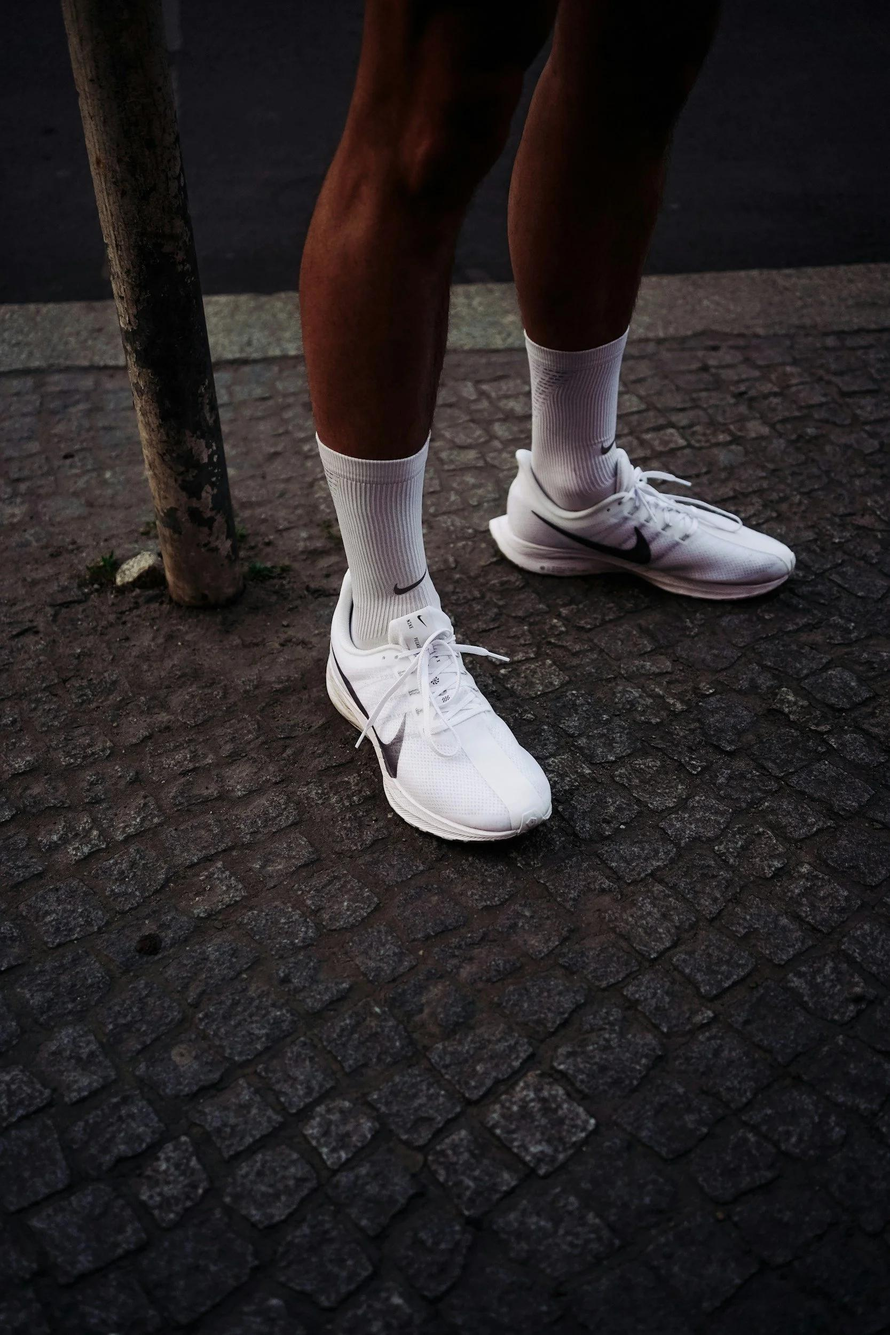nike logo: (317, 616, 426, 786), (513, 493, 683, 564)
sock logo: (329, 457, 450, 609), (529, 351, 623, 468)
